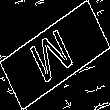M_SE: (29, 21, 81, 89)
